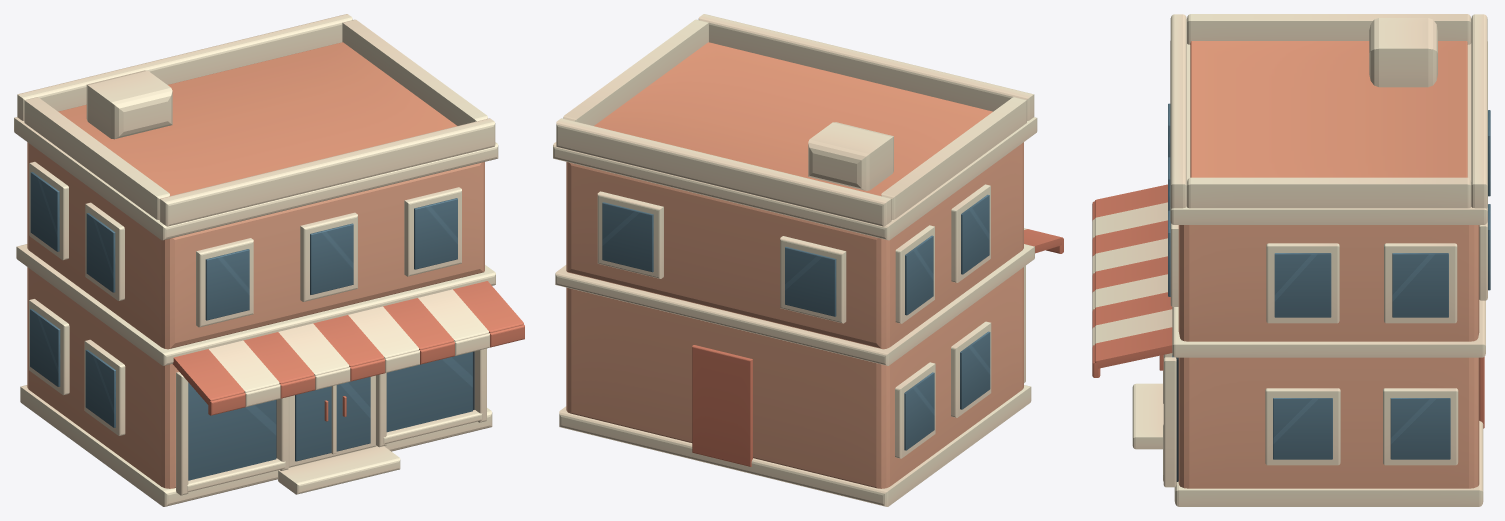
The model's file is 03A-market-threejs.glb.
3 renders of one model, left to right at view 1: azimuth 30°, elevation 25°; view 2: azimuth 150°, elevation 25°; view 3: azimuth 270°, elevation 25°, orthographic. The views are drawn at different scales.
Parts seen in each view (by area): view 1: 03A / trim, 03A / wall, 03A / glass, 03A / roof, 03A / accent; view 2: 03A / wall, 03A / trim, 03A / roof, 03A / glass, 03A / accent; view 3: 03A / trim, 03A / wall, 03A / roof, 03A / glass, 03A / accent.
Part boxes in pixels (x1,y1,x2,y2): 03A / trim: (14, 14, 498, 506); 03A / wall: (27, 142, 484, 488); 03A / glass: (30, 172, 472, 480); 03A / roof: (58, 42, 456, 195); 03A / accent: (173, 281, 524, 421); 03A / wall: (566, 142, 1023, 488); 03A / trim: (553, 14, 1037, 506); 03A / roof: (594, 42, 992, 195); 03A / glass: (602, 194, 990, 450); 03A / accent: (692, 229, 1063, 466); 03A / trim: (1092, 14, 1487, 506); 03A / wall: (1178, 225, 1479, 488); 03A / roof: (1190, 41, 1467, 177); 03A / glass: (1168, 103, 1490, 459); 03A / accent: (1092, 184, 1484, 428).
Bounding box in the file's own units: 6.28 × 5.78 × 6.09.
6 materials, 6 textured.
